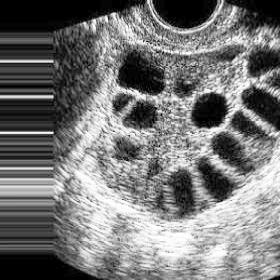PCOS: (124, 50, 168, 96), (213, 135, 261, 173), (174, 162, 203, 220), (234, 117, 277, 148), (195, 155, 225, 197), (246, 86, 280, 114), (194, 98, 225, 128), (130, 98, 156, 129), (244, 54, 280, 74), (118, 135, 138, 161), (145, 158, 167, 178), (177, 78, 194, 102), (110, 93, 131, 112), (153, 188, 166, 214), (220, 49, 242, 64)
